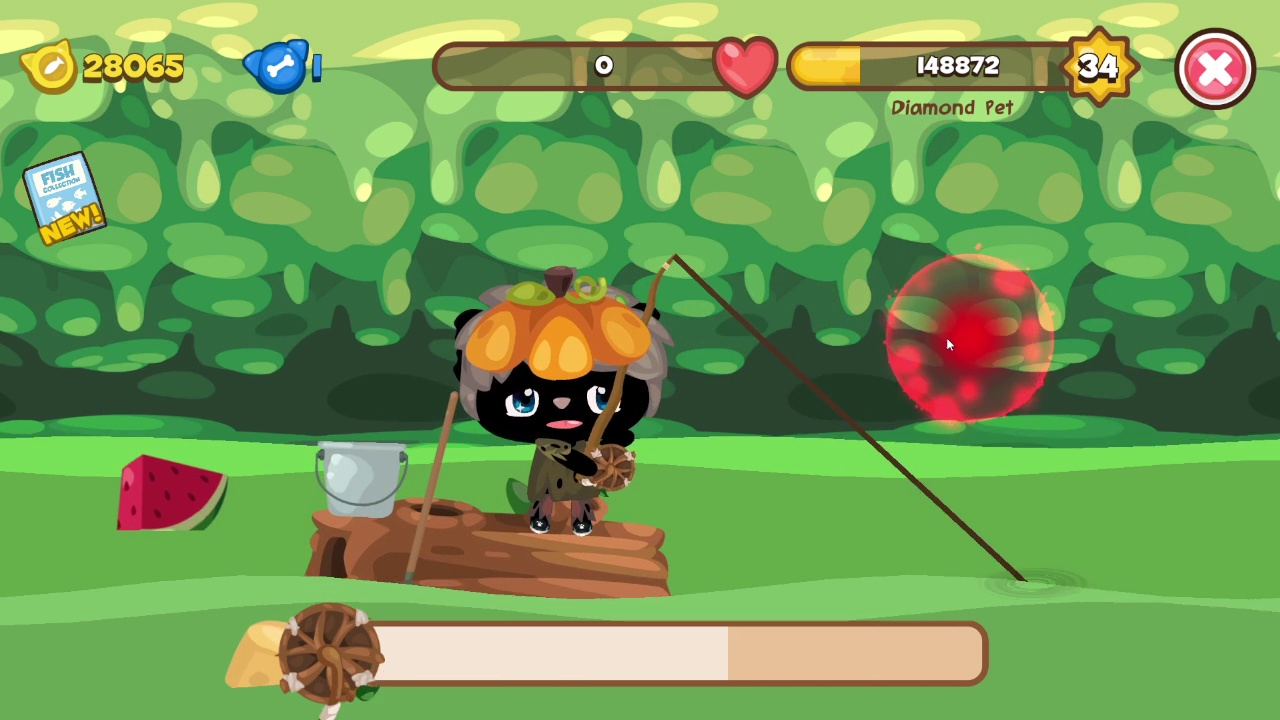point: (883, 251, 1057, 429)
